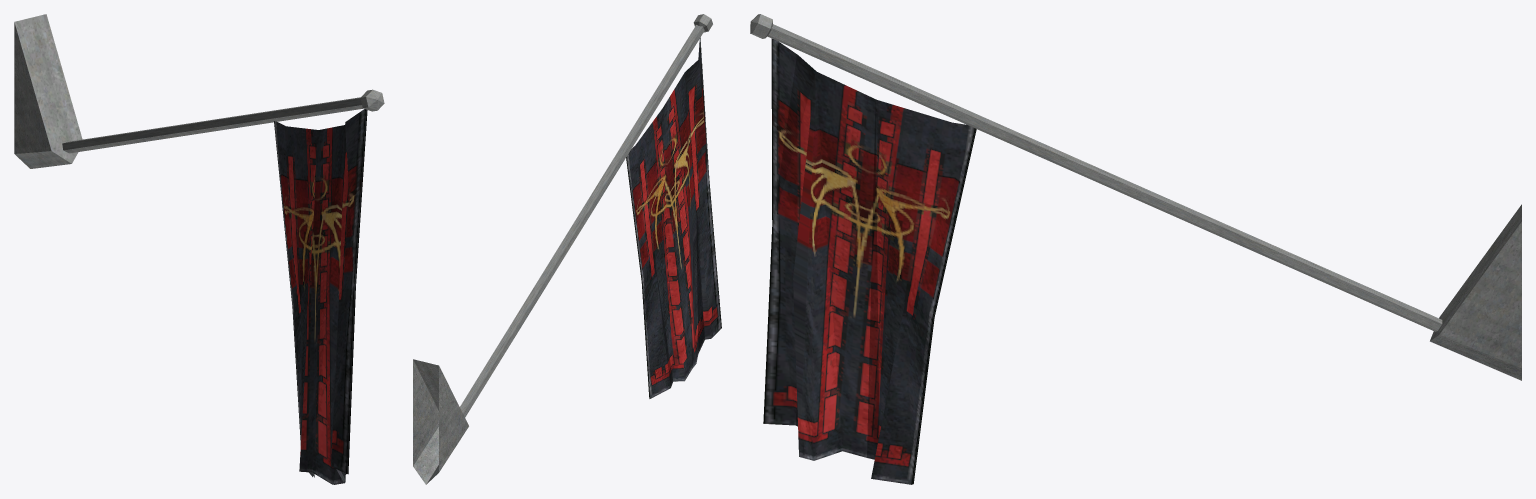
File: thm_corl_banner_govt_angled_l1.fbx
3 views of the same model, side by side, from view 1: azimuth 30°, elevation 25°; view 2: azimuth 150°, elevation 25°; view 3: azimuth 270°, elevation 25° (orthographic). The views are drawn at different scales.
Parts seen in each view (by area): view 1: mesh_node; view 2: mesh_node; view 3: mesh_node.
Boxes of the visible parts, x1,y1,x2,y2 form: mesh_node: (14, 14, 384, 484); mesh_node: (413, 14, 721, 484); mesh_node: (750, 14, 1521, 484).
Bounding box in the file's own units: 0.3603 × 3.5 × 5.2.
